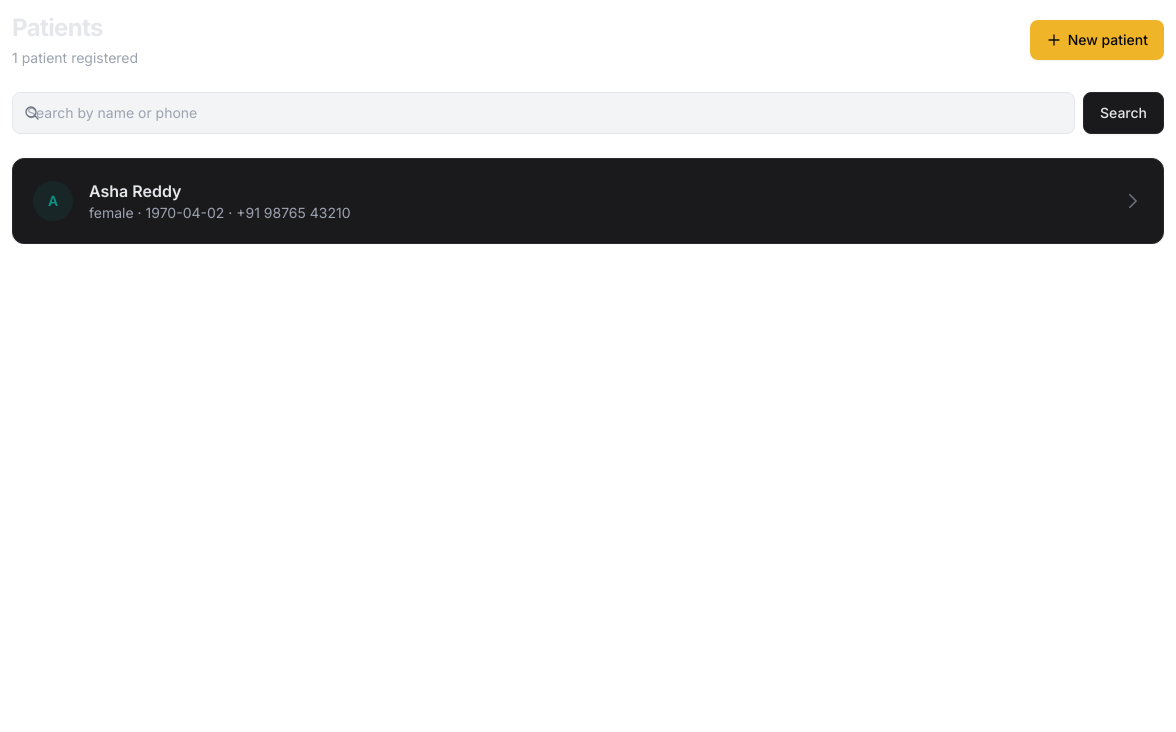
PatientsPage › keeps the form open and shows the server message when creation fails
Expected: the text "Asha Reddy" is shown, [89, 181, 182, 201]
Click the button "New patient". click: x=1097, y=40
box: [1030, 20, 1164, 60]
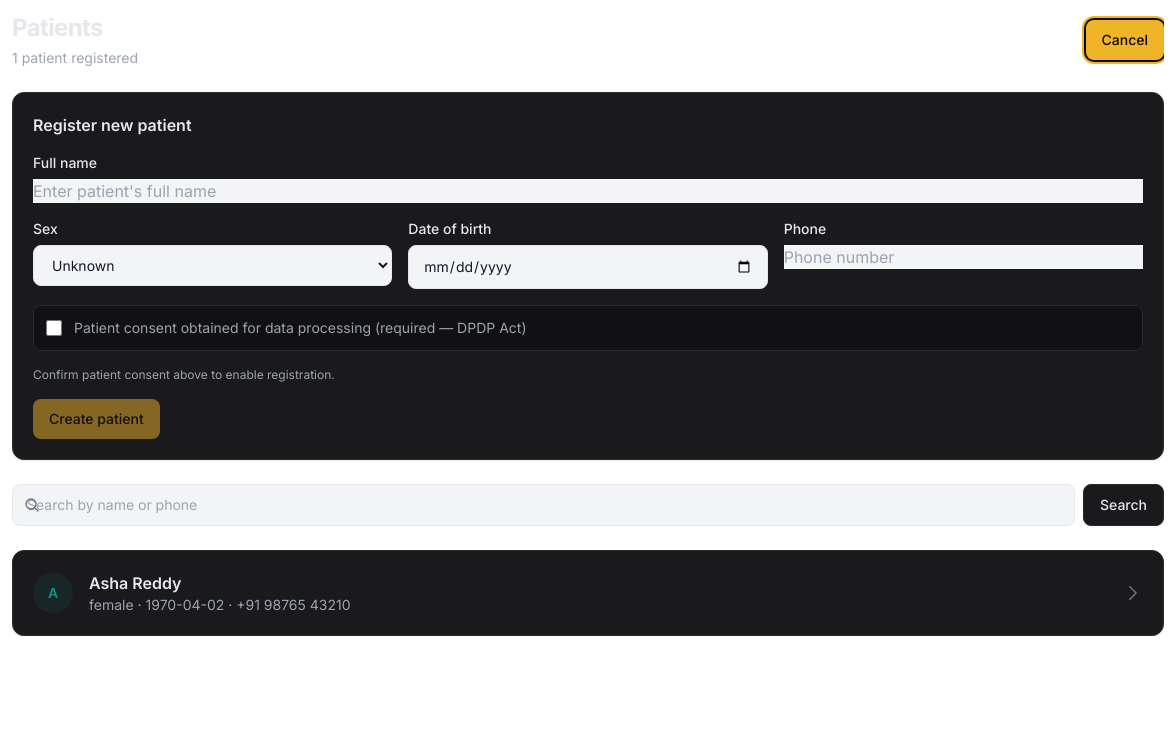
Type "New Patient" into the field with placeholder "Enter patient's full name". click: x=588, y=191
box: [33, 179, 1143, 203]
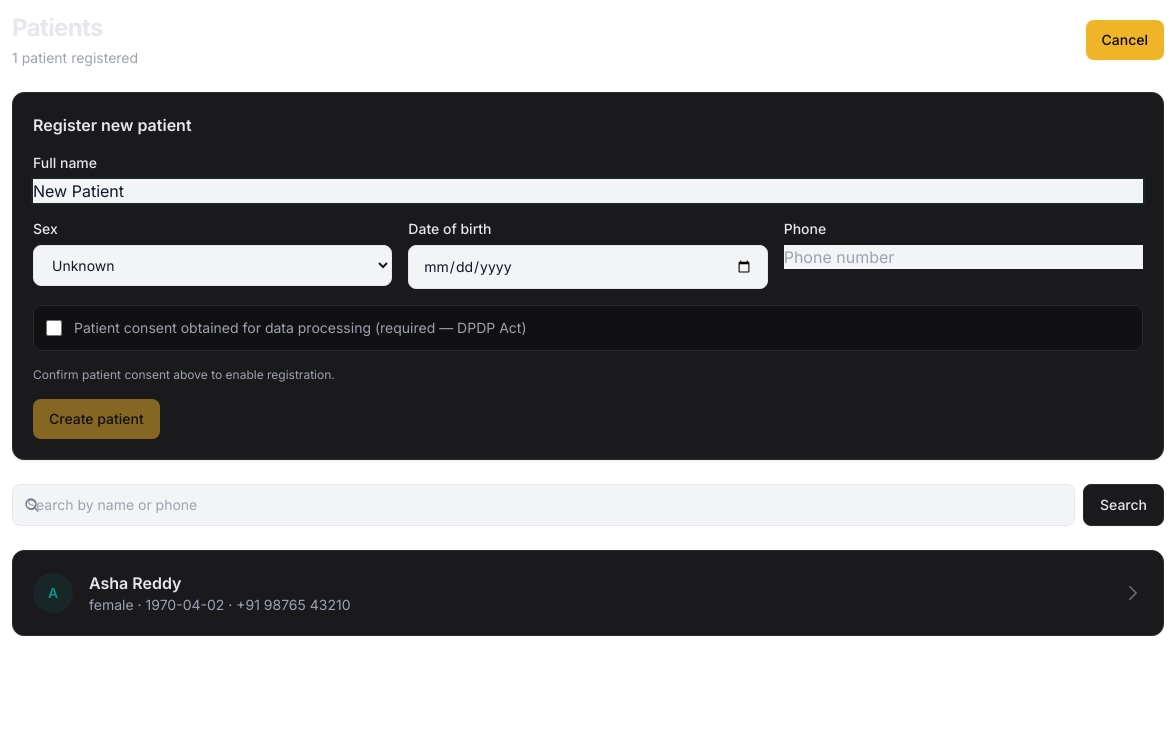
Click the checkbox. click: x=54, y=328
box: [46, 320, 62, 336]
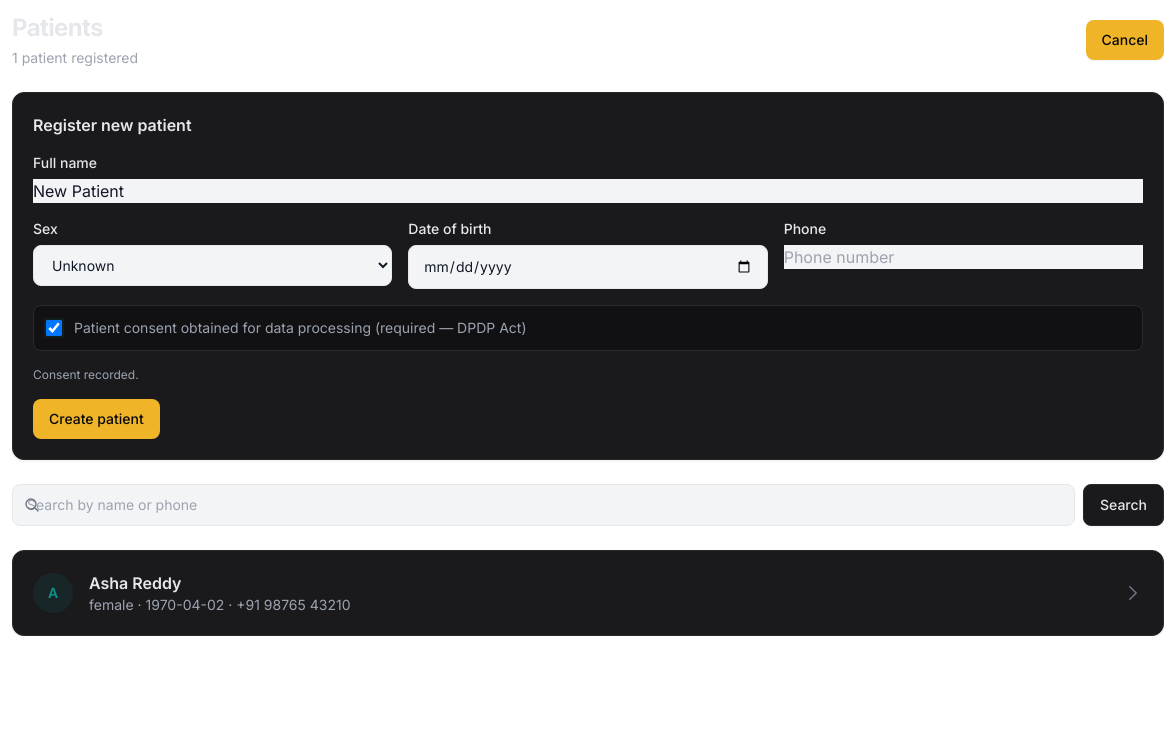
Click the button "Create patient". click: x=96, y=419
box: [33, 399, 160, 439]
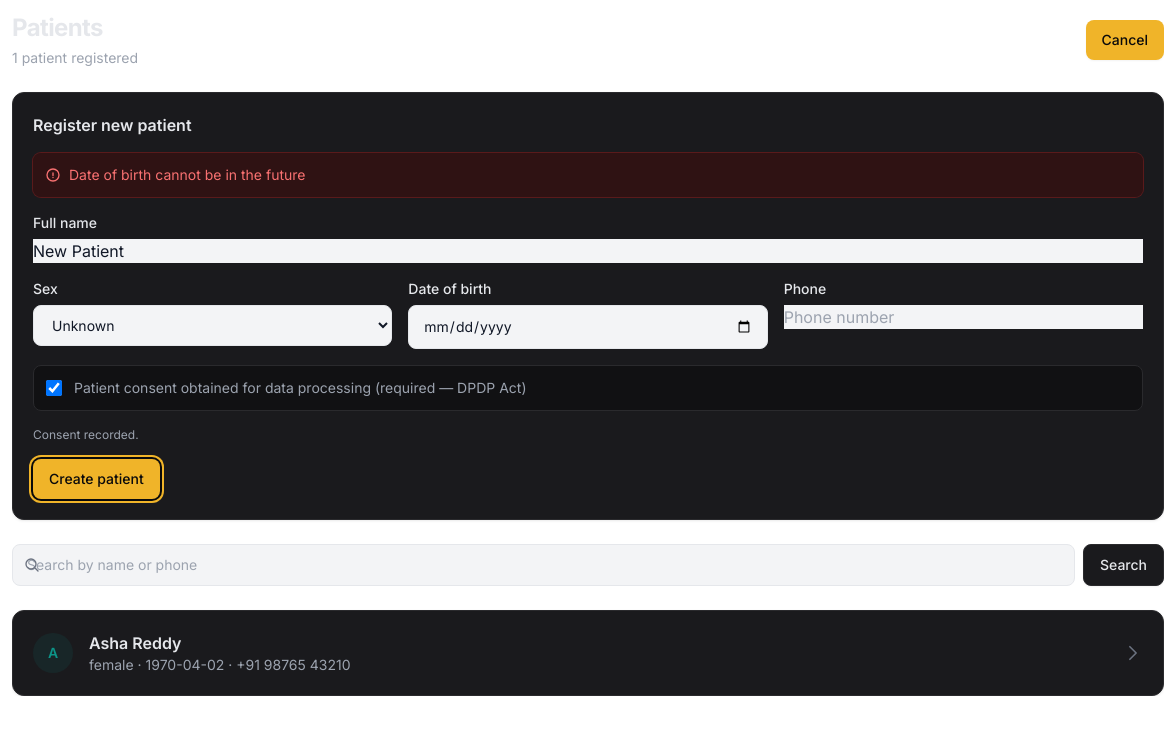
Result: the button "Create patient" is shown at [33, 459, 160, 499]
Result: the text "Date of birth cannot be in the future" is shown at [69, 165, 306, 185]
